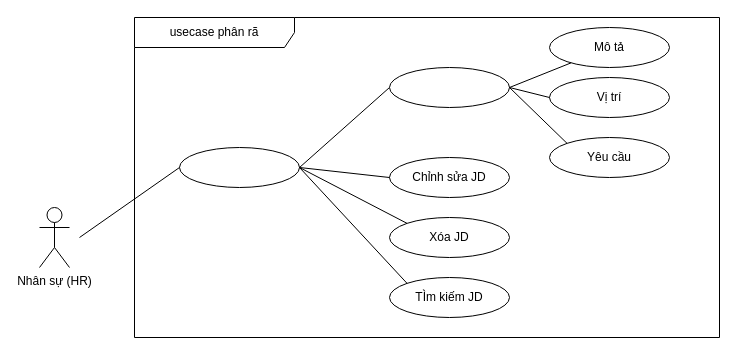
Image size: 737x355. Some labels were removed from this diagram. Here are the shapes that lost their labels. From the top down, the centre of each, then its label:
the point at 449,87: Tạo JD
the point at 239,167: Quản lý JD
